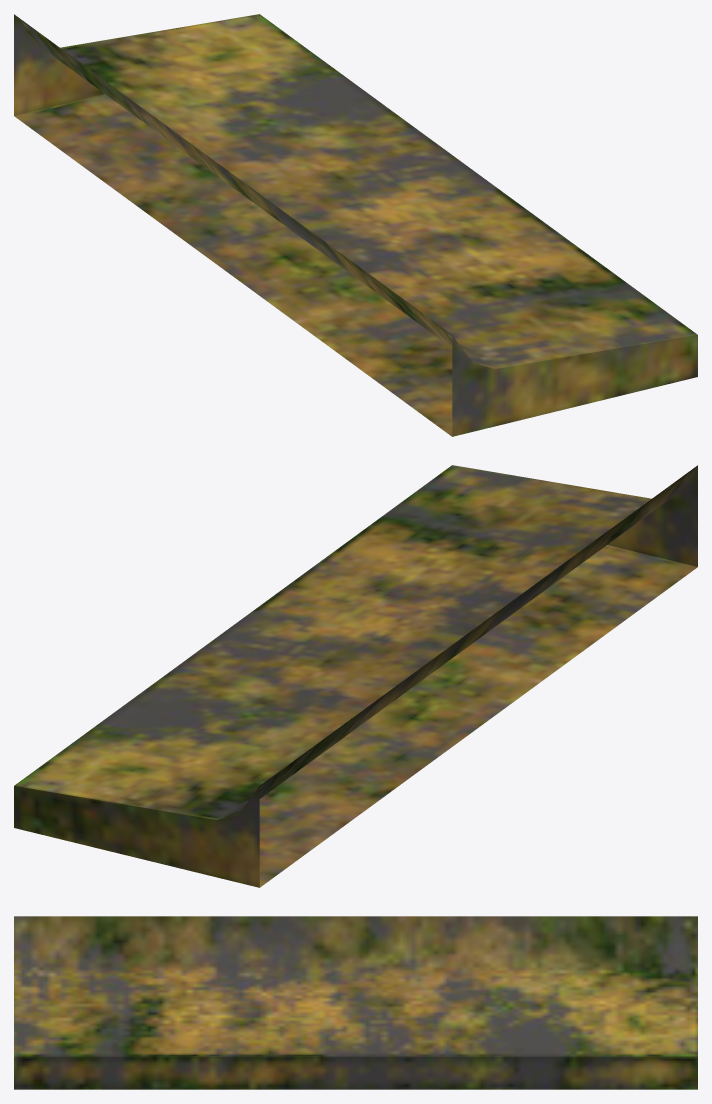
The model's file is WindowTop_L.FBX.
3 views of the same model, one above another, from view 1: azimuth 30°, elevation 25°; view 2: azimuth 150°, elevation 25°; view 3: azimuth 270°, elevation 25° (orthographic). The views are drawn at different scales.
Parts seen in each view (by area): view 1: WindowTop_L; view 2: WindowTop_L; view 3: WindowTop_L.
Boxes of the visible parts, <box> form: WindowTop_L: <box>14,14,697,436</box>; WindowTop_L: <box>14,465,697,887</box>; WindowTop_L: <box>14,916,697,1089</box>.
Size of the model in its own units: 80.93 by 32.1 by 250.
